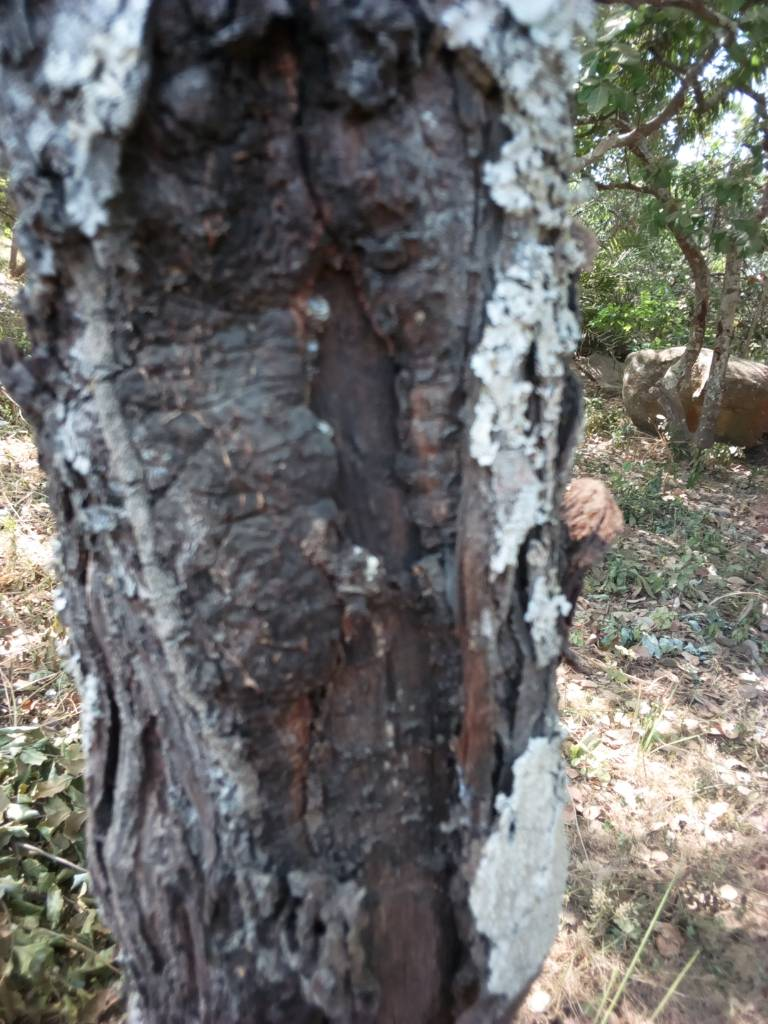Termites: (93, 303, 572, 957)
